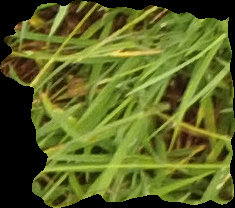grass: (1, 1, 234, 207)
